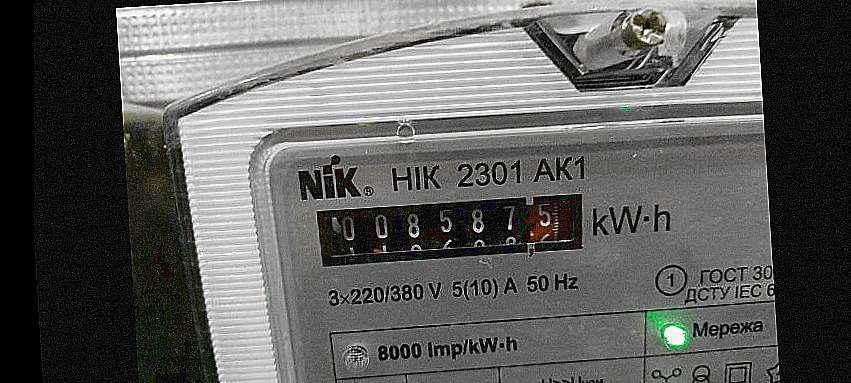0: (339, 212, 358, 242), (373, 211, 391, 240)
5: (536, 200, 555, 230), (437, 206, 455, 235)
7: (500, 201, 519, 232)
8: (469, 204, 487, 235), (405, 210, 422, 239)
screen: (298, 177, 604, 278)
